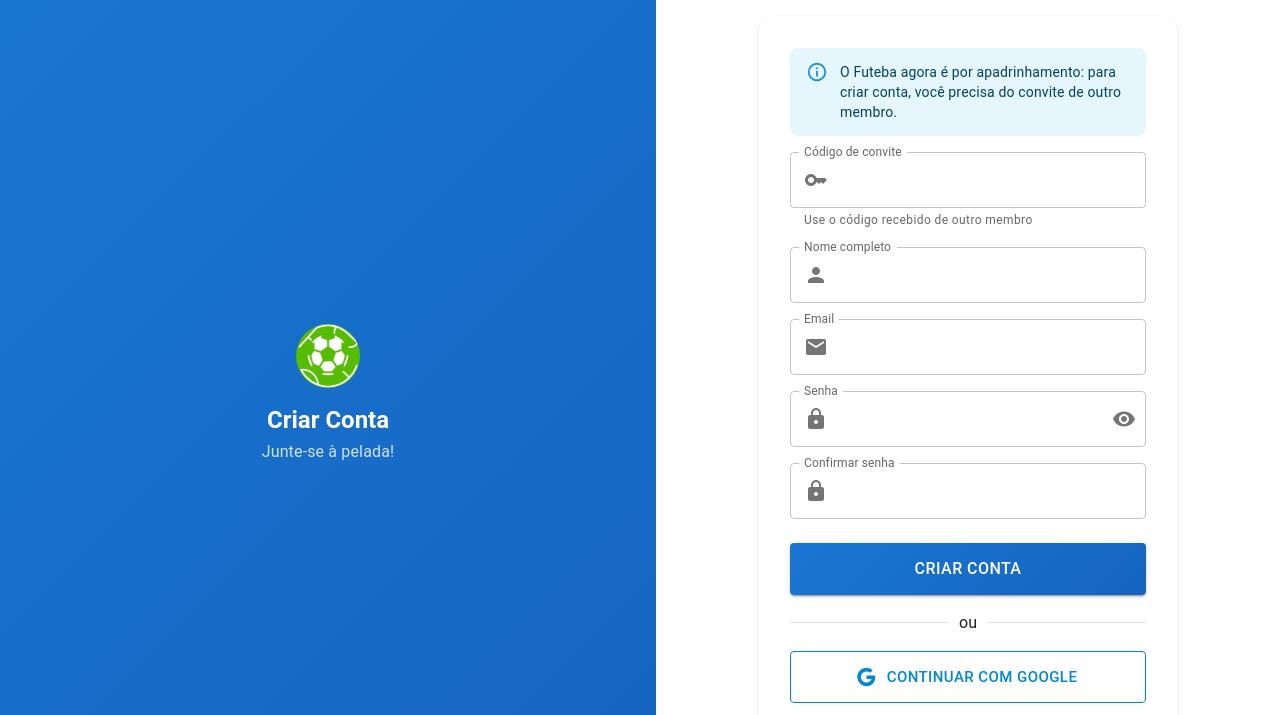
Test: RegisterScreen › exibe erro quando registro falha
Type "ABC123" into the field labelled "Código de convite".
click(991, 180); type("ABC123")  # box [836,152,1146,208]
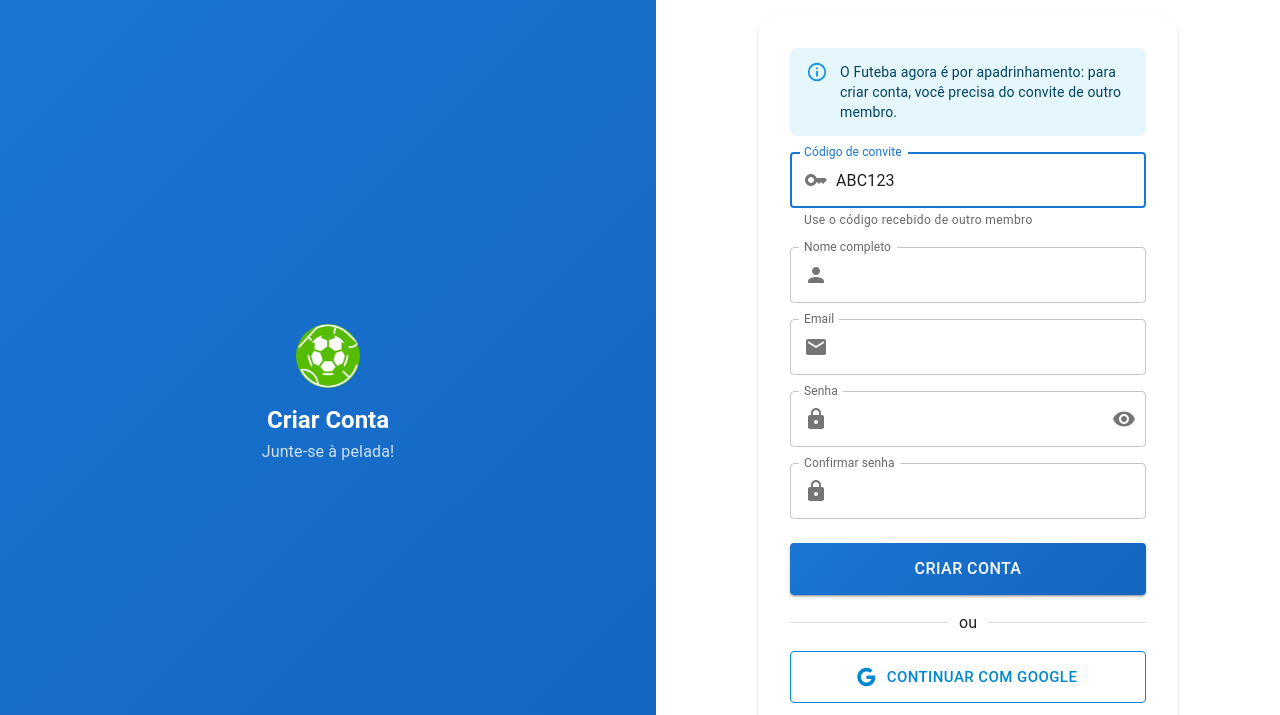
Type "Jogador Teste" into the field labelled "Nome completo".
click(991, 275); type("Jogador Teste")  # box [836,247,1146,303]
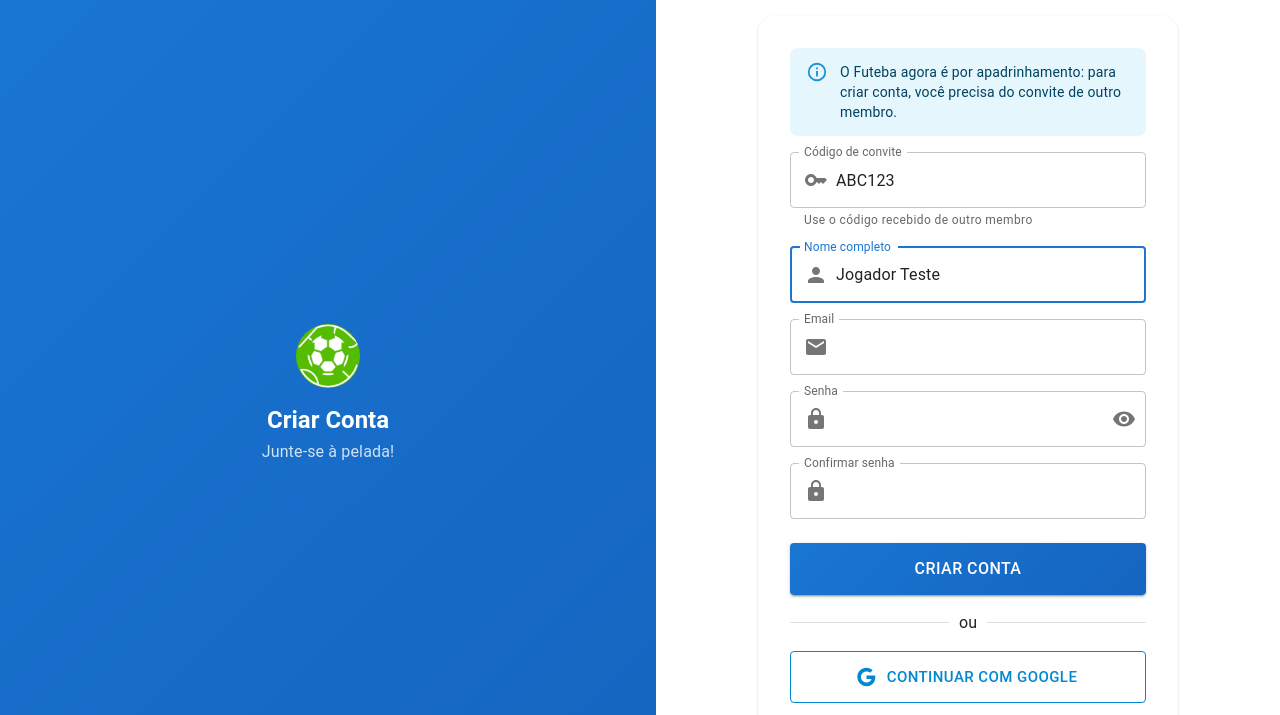
Type "test@test.com" into the field labelled "Email".
click(991, 347); type("test@test.com")  # box [836,319,1146,375]
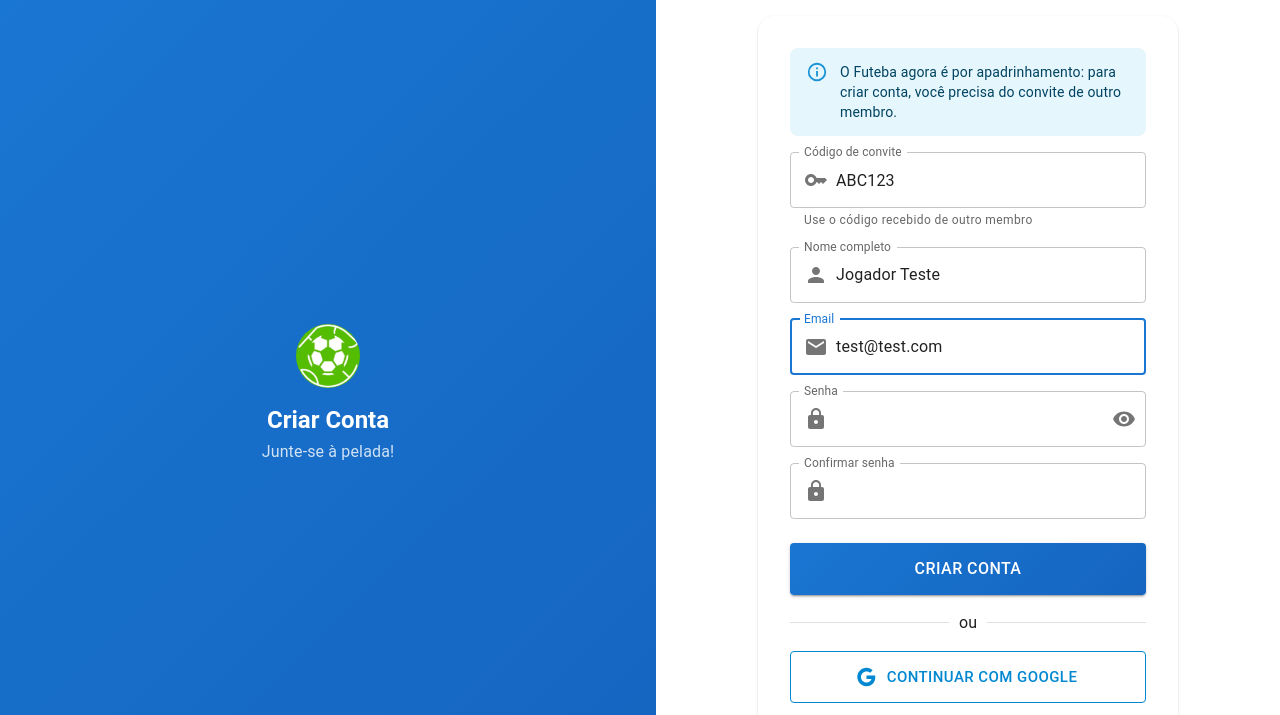
Type "123456" into the password field labelled "Senha".
click(966, 419); type("123456")  # box [836,391,1096,447]
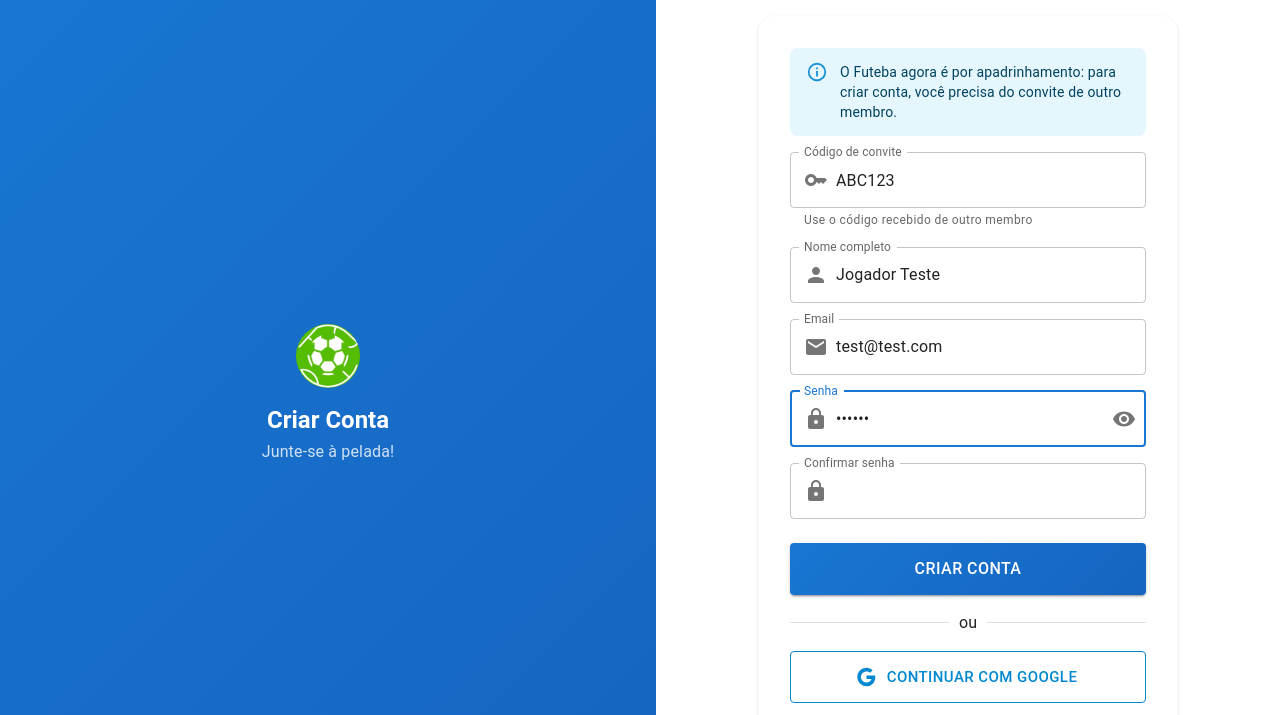
Type "123456" into the password field labelled "Confirmar senha".
click(991, 491); type("123456")  # box [836,463,1146,519]
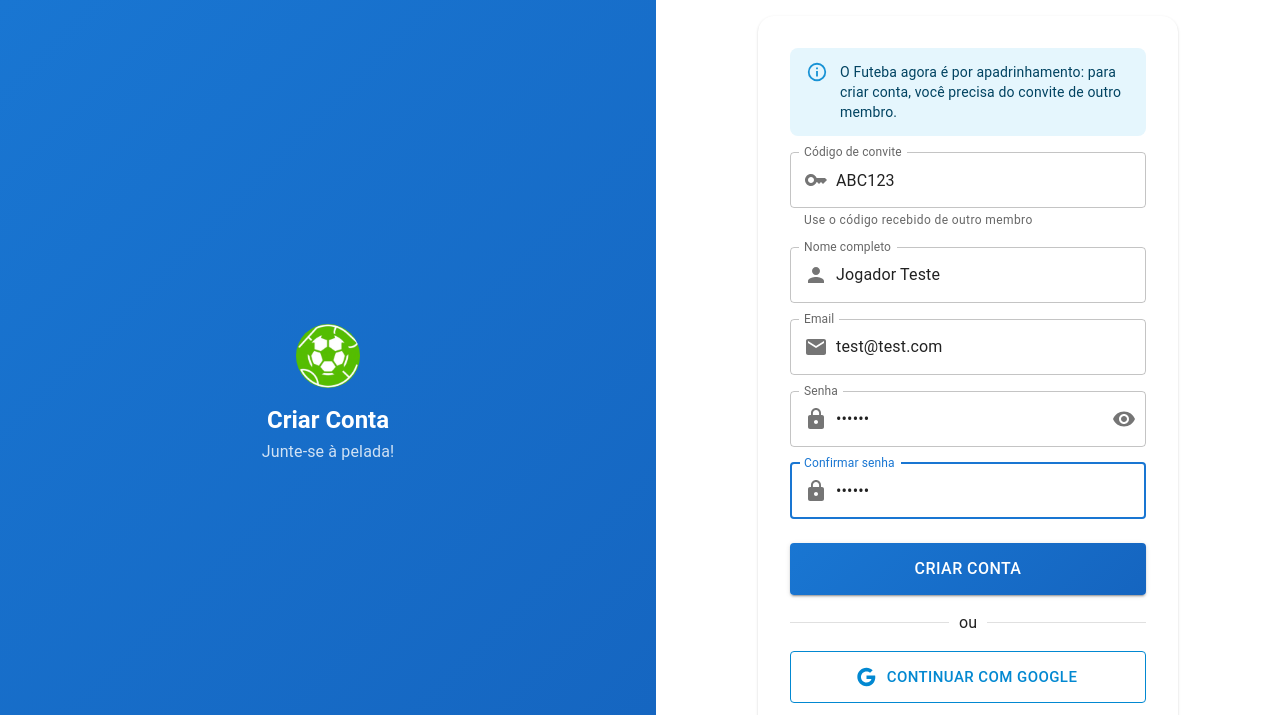
Click the button "Criar conta".
click(968, 569)  # box [790,543,1146,595]
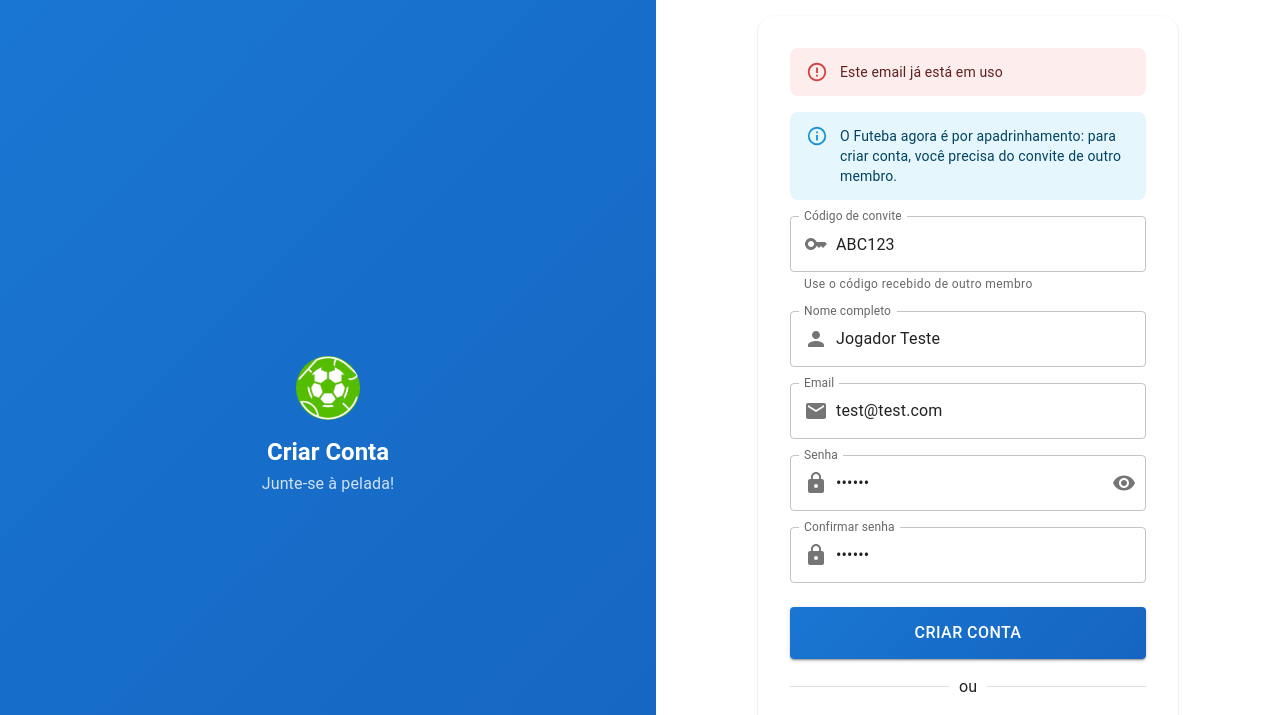
Check: the text "Este email já está em uso" is shown, box [840,64,1003,80]
